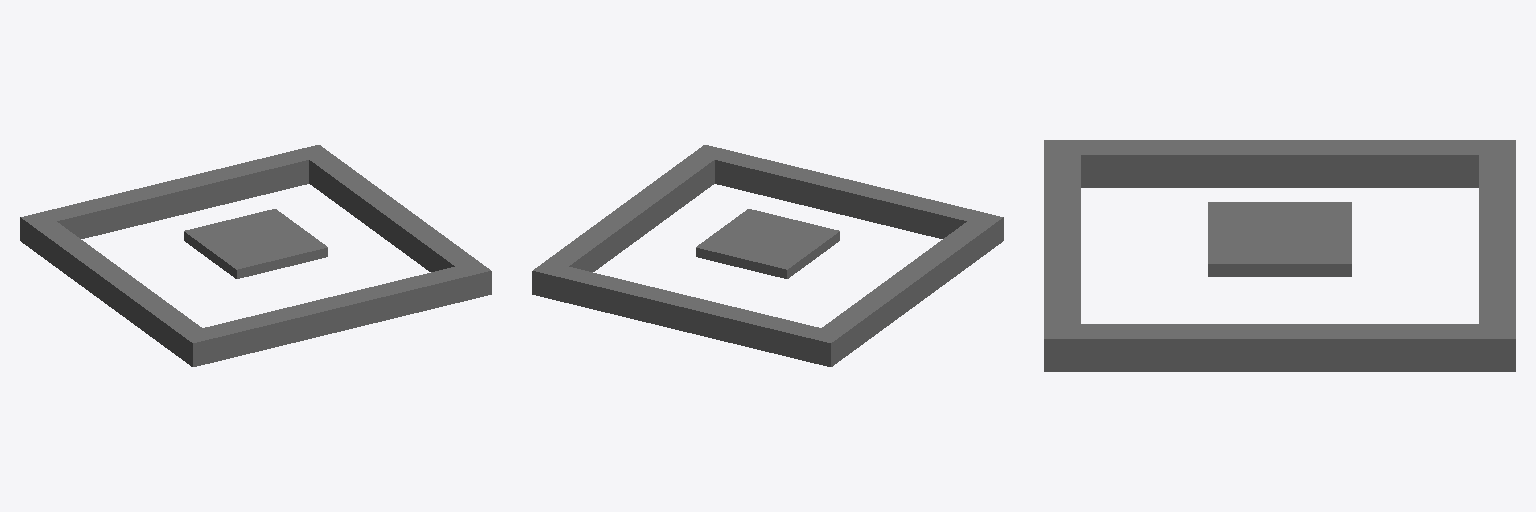
URDF robot description (xy_plotter):
<?xml version="1.0"?>
<robot name="xy_plotter">

  <!-- World link -->
  <link name="world"/>

  <!-- Base Frame - Hollow Square -->
  <link name="boundary_link">
    <inertial>
      <mass value="10" />
      <inertia ixx="0.4" ixy="0.0" ixz="0.0" iyy="0.4" iyz="0.0" izz="0.2"/>
    </inertial>

    <!-- Front Boundary -->
    <visual>
      <origin xyz="0.0 0.30 0.0" rpy="0 0 0"/>
      <geometry>
        <box size="0.55 0.05 0.05"/>  
      </geometry>
      <material name="grey">
        <color rgba="0.5 0.5 0.5 1"/>
      </material>
    </visual>

    <!-- Back Boundary -->
    <visual>
      <origin xyz="0.0 -0.30 0.0" rpy="0 0 0"/>
      <geometry>
        <box size="0.55 0.05 0.05"/>
      </geometry>
      <material name="grey">
        <color rgba="0.5 0.5 0.5 1"/>
      </material>
    </visual>

    <!-- Left Boundary -->
    <visual>
      <origin xyz="-0.30 0.0 0.0" rpy="0 0 0"/>
      <geometry>
        <box size="0.05 0.65 0.05"/>  
      </geometry>
      <material name="grey">
        <color rgba="0.5 0.5 0.5 1"/>
      </material>
    </visual>

    <!-- Right Boundary -->
    <visual>
      <origin xyz="0.30 0.0 0.0" rpy="0 0 0"/>
      <geometry>
        <box size="0.05 0.65 0.05"/>
      </geometry>
      <material name="grey">
        <color rgba="0.5 0.5 0.5 1"/>
      </material>
    </visual>

    <!-- Add collision -->
    <collision>
      <origin xyz="0.0 0.30 0.0"/>
      <geometry>
        <box size="0.55 0.05 0.05"/>
      </geometry>
    </collision>

    <collision>
      <origin xyz="0.0 -0.30 0.0"/>
      <geometry>
        <box size="0.55 0.05 0.05"/>
      </geometry>
    </collision>

    <collision>
      <origin xyz="-0.30 0.0 0.0"/>
      <geometry>
        <box size="0.05 0.65 0.05"/>
      </geometry>
    </collision>

    <collision>
      <origin xyz="0.30 0.0 0.0"/>
      <geometry>
        <box size="0.05 0.65 0.05"/>
      </geometry>
    </collision>
  </link>

  <!-- Gazebo material for boundary_link -->
  <gazebo reference="boundary_link">
    <material>Gazebo/Grey</material>
  </gazebo>

  <joint name="connect_world_and_boundary_link" type="fixed">
    <child link="boundary_link"/>
    <parent link="world"/>
    <origin rpy="0 0 0" xyz="-0.9 0.7 0.95"/>
  </joint>

  <!-- Link #2 (Slider Link) -->
  <link name="slider_link">
    <inertial>
        <mass value="0.18" />
        <inertia ixx="0.0002835" ixy="0.0" ixz="0.0" iyy="0.0002835" iyz="0.0" izz="0.000324" />
    </inertial>
    <collision>
      <geometry>
        <box size="0.001 0.001 0.001" />
      </geometry>
    </collision>
    <visual>
      <geometry>
        <box size="0.001 0.001 0.001" />
      </geometry>
      <material name="red">
        <color rgba="1 0 0 1"/>
      </material>
    </visual>
  </link>

  <!-- Link #3 (Slider Link) -->
  <link name="second_link">
    <inertial>
        <mass value="0.18" />
        <inertia ixx="0.0002835" ixy="0.0" ixz="0.0" iyy="0.0002835" iyz="0.0" izz="0.000324" />
    </inertial>
    <collision>
      <geometry>
        <box size="0.001 0.001 0.001" />
      </geometry>
    </collision>
    <visual>
      <geometry>
        <box size="0.001 0.001 0.001" />
      </geometry>
      <material name="green">
        <color rgba="0 1 0 1"/>
      </material>
    </visual>
  </link>

  <!-- Link #4 (Plate) -->
  <link name="plate_link">
    <inertial>
        <mass value="0.5" />
        <inertia ixx="0.01" ixy="0.0" ixz="0.0" iyy="0.01" iyz="0.0" izz="0.01"/>
    </inertial>
    <collision>
      <geometry>
        <box size="0.2 0.2 0.02" />  <!-- Plate dimensions: Width=0.2, Depth=0.2, Height=0.02 -->
      </geometry>
    </collision>
    <visual>
      <geometry>
        <box size="0.2 0.2 0.02" />
      </geometry>
      <material name="gray">
        <color rgba="0.5 0.5 0.5 1"/>
      </material>
    </visual>
  </link>

  <!-- Joint for X-axis (Base to Slider) -->
  <joint name="base_to_slider_joint" type="prismatic">
    <parent link="boundary_link"/>
    <child link="slider_link"/>
    <axis xyz="1 0 0"/>
    <origin xyz="0.0 0.0 0.025" rpy="0.0 0.0 0.0"/>
    <limit lower="-2" upper="2" effort="100.0" velocity="1.0"/>
  </joint>

  <!-- Joint for Y-axis (Slider to Second Link) -->
  <joint name="slider_to_second_joint" type="prismatic">
    <parent link="slider_link"/>
    <child link="second_link"/>
    <axis xyz="0 1 0"/>
    <origin xyz="0.0 0.0 0" rpy="0.0 0.0 0.0"/>
    <limit lower="-2" upper="2" effort="100.0" velocity="1.0"/>
  </joint>

  <!-- Fixed Joint: Attach Plate to Second Link -->
  <joint name="second_to_plate_joint" type="fixed">
    <parent link="second_link"/>
    <child link="plate_link"/>
    <origin xyz="0.0 0.0 0.0" rpy="0.0 0.0 0.0"/>  <!-- Plate positioned slightly above the second link -->
  </joint>

  <!-- Gazebo ROS Control Plugin - used to connect simulated robot to ROS Controllers-->
  <gazebo>
    <plugin name="gazebo_ros_control" filename="libgazebo_ros_control.so">
      <robotNamespace>/xy_plotter</robotNamespace>
      <robotSimType>gazebo_ros_control/DefaultRobotHWSim</robotSimType>
      <legacyModeNS>true</legacyModeNS>
    </plugin>
  </gazebo>

  <!-- Transmission for X-axis - used to attach simulated motors to the joints-->
  <transmission name="base_to_slider_trans">
    <type>transmission_interface/SimpleTransmission</type>
    <actuator name="motor1">
        <mechanicalReduction>1</mechanicalReduction>
    </actuator>
    <joint name="base_to_slider_joint">
        <hardwareInterface>hardware_interface/PositionJointInterface</hardwareInterface>
    </joint>
  </transmission>

  <!-- Transmission for Y-axis -->
  <transmission name="slider_to_second_trans">
    <type>transmission_interface/SimpleTransmission</type>
    <actuator name="motor2">
        <mechanicalReduction>1</mechanicalReduction>
    </actuator>
    <joint name="slider_to_second_joint">
        <hardwareInterface>hardware_interface/PositionJointInterface</hardwareInterface>
    </joint>
  </transmission>

</robot>

--- Render facts (derived) ---
Views: 3 orthographic renders of the robot side by side, from view 1: azimuth 30°, elevation 25°; view 2: azimuth 150°, elevation 25°; view 3: azimuth 270°, elevation 25°.
Model xy_plotter with 5 links and 4 joints (2 prismatic, 2 fixed), rooted at world, posed every joint at zero.
Links seen in each view (by area): view 1: boundary_link, plate_link; view 2: boundary_link, plate_link; view 3: boundary_link, plate_link.
Boxes of the visible links, x1,y1,x2,y2 form: boundary_link: (20,145,491,366); plate_link: (184,209,327,278); boundary_link: (532,145,1003,366); plate_link: (696,209,839,278); boundary_link: (1044,140,1515,371); plate_link: (1208,202,1351,276).
Size in the robot's own frame: 0.65 by 0.65 by 0.06 metres.
Geometry: primitives only (box / cylinder / sphere), no mesh files.